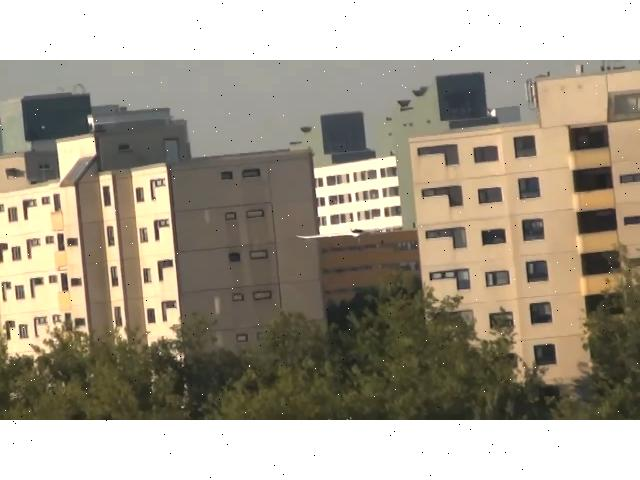Anti-Drone: (284, 217, 418, 247)
